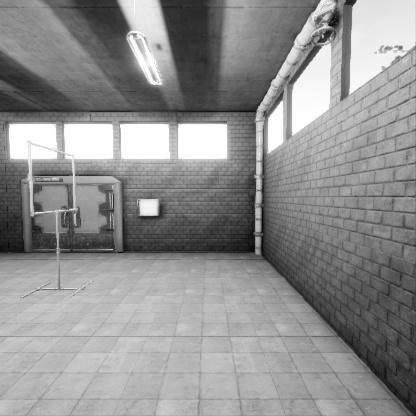gate: (26, 203, 76, 278)
